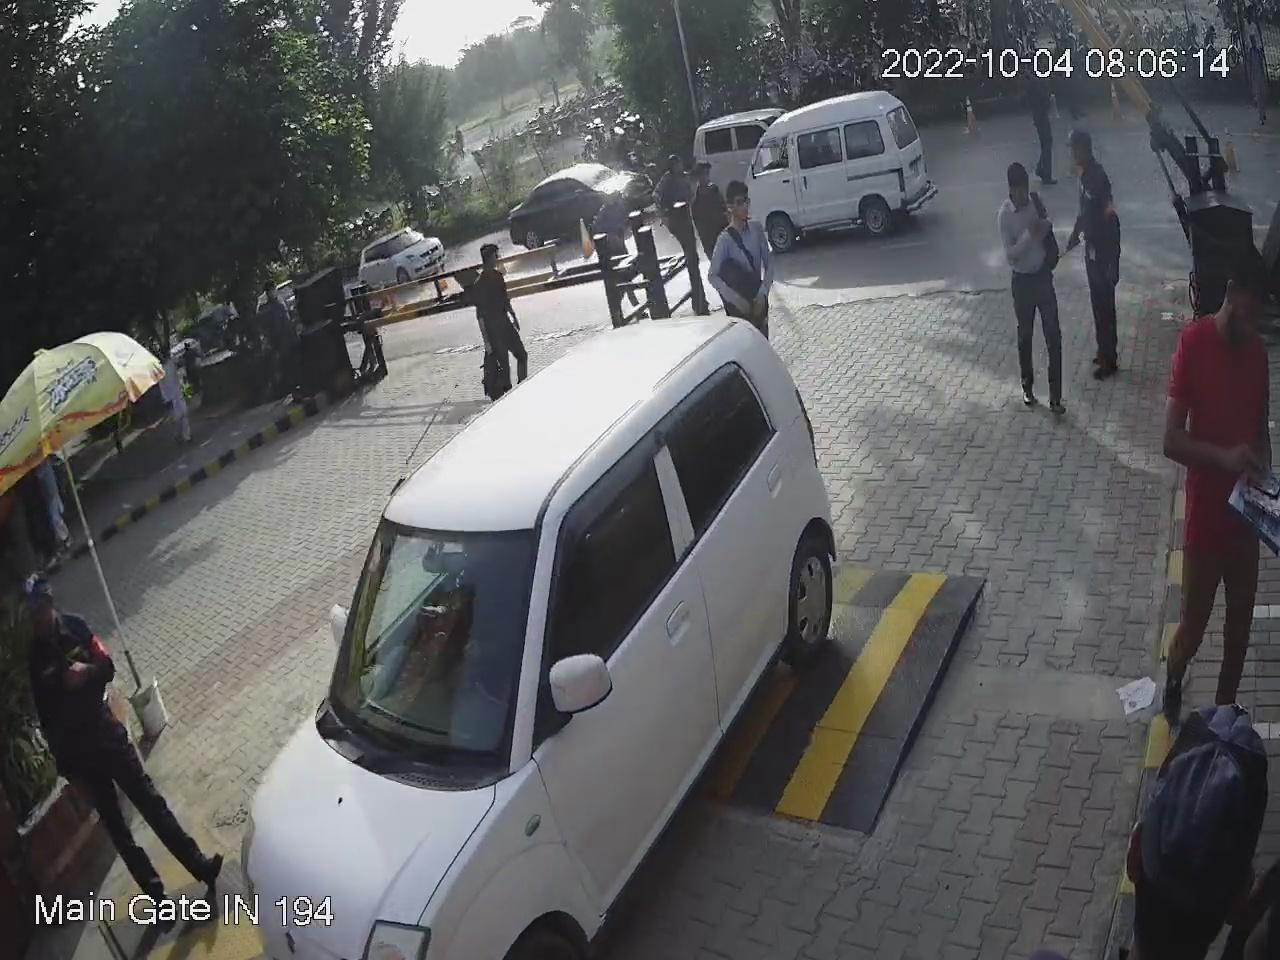windshield: (305, 505, 553, 790)
